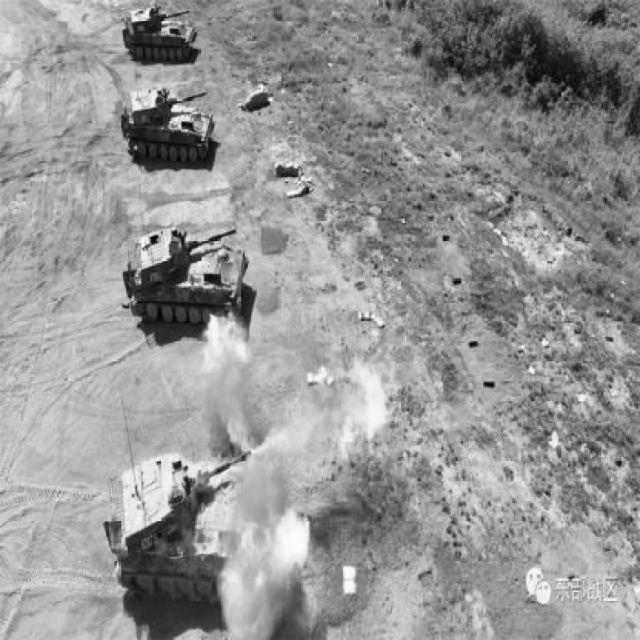Tank: (104, 453, 250, 607), (126, 224, 250, 335), (121, 89, 216, 169), (122, 6, 198, 64)
